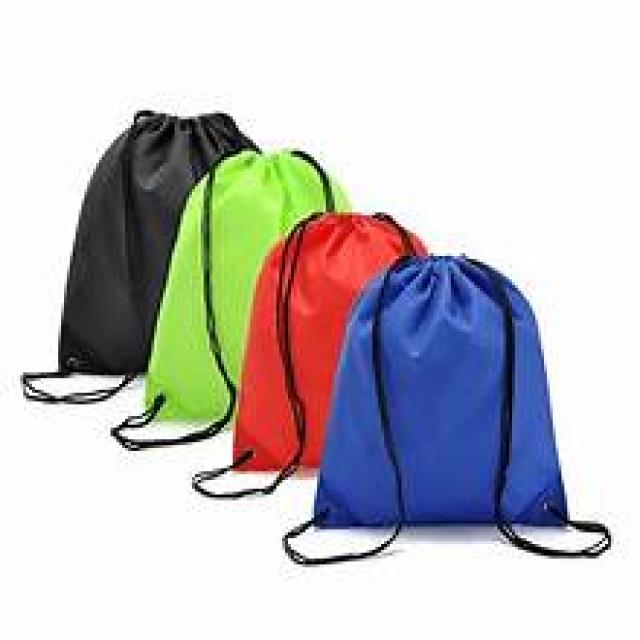backpack: (307, 254, 574, 532), (53, 102, 288, 387), (139, 147, 370, 425), (231, 211, 429, 473)
